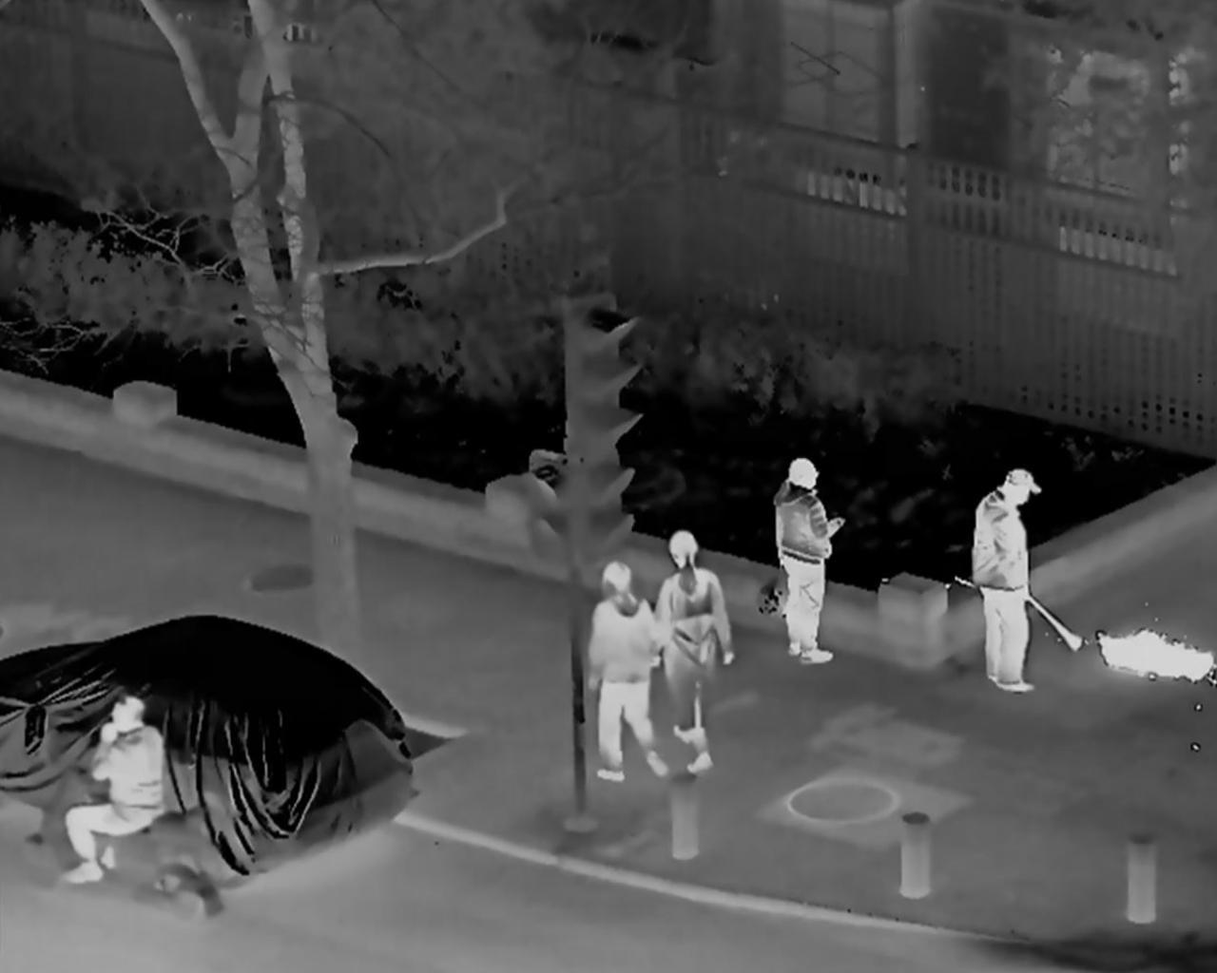person: (649, 532, 735, 774), (62, 692, 162, 889), (967, 463, 1045, 697), (589, 564, 668, 784), (766, 456, 840, 668)
